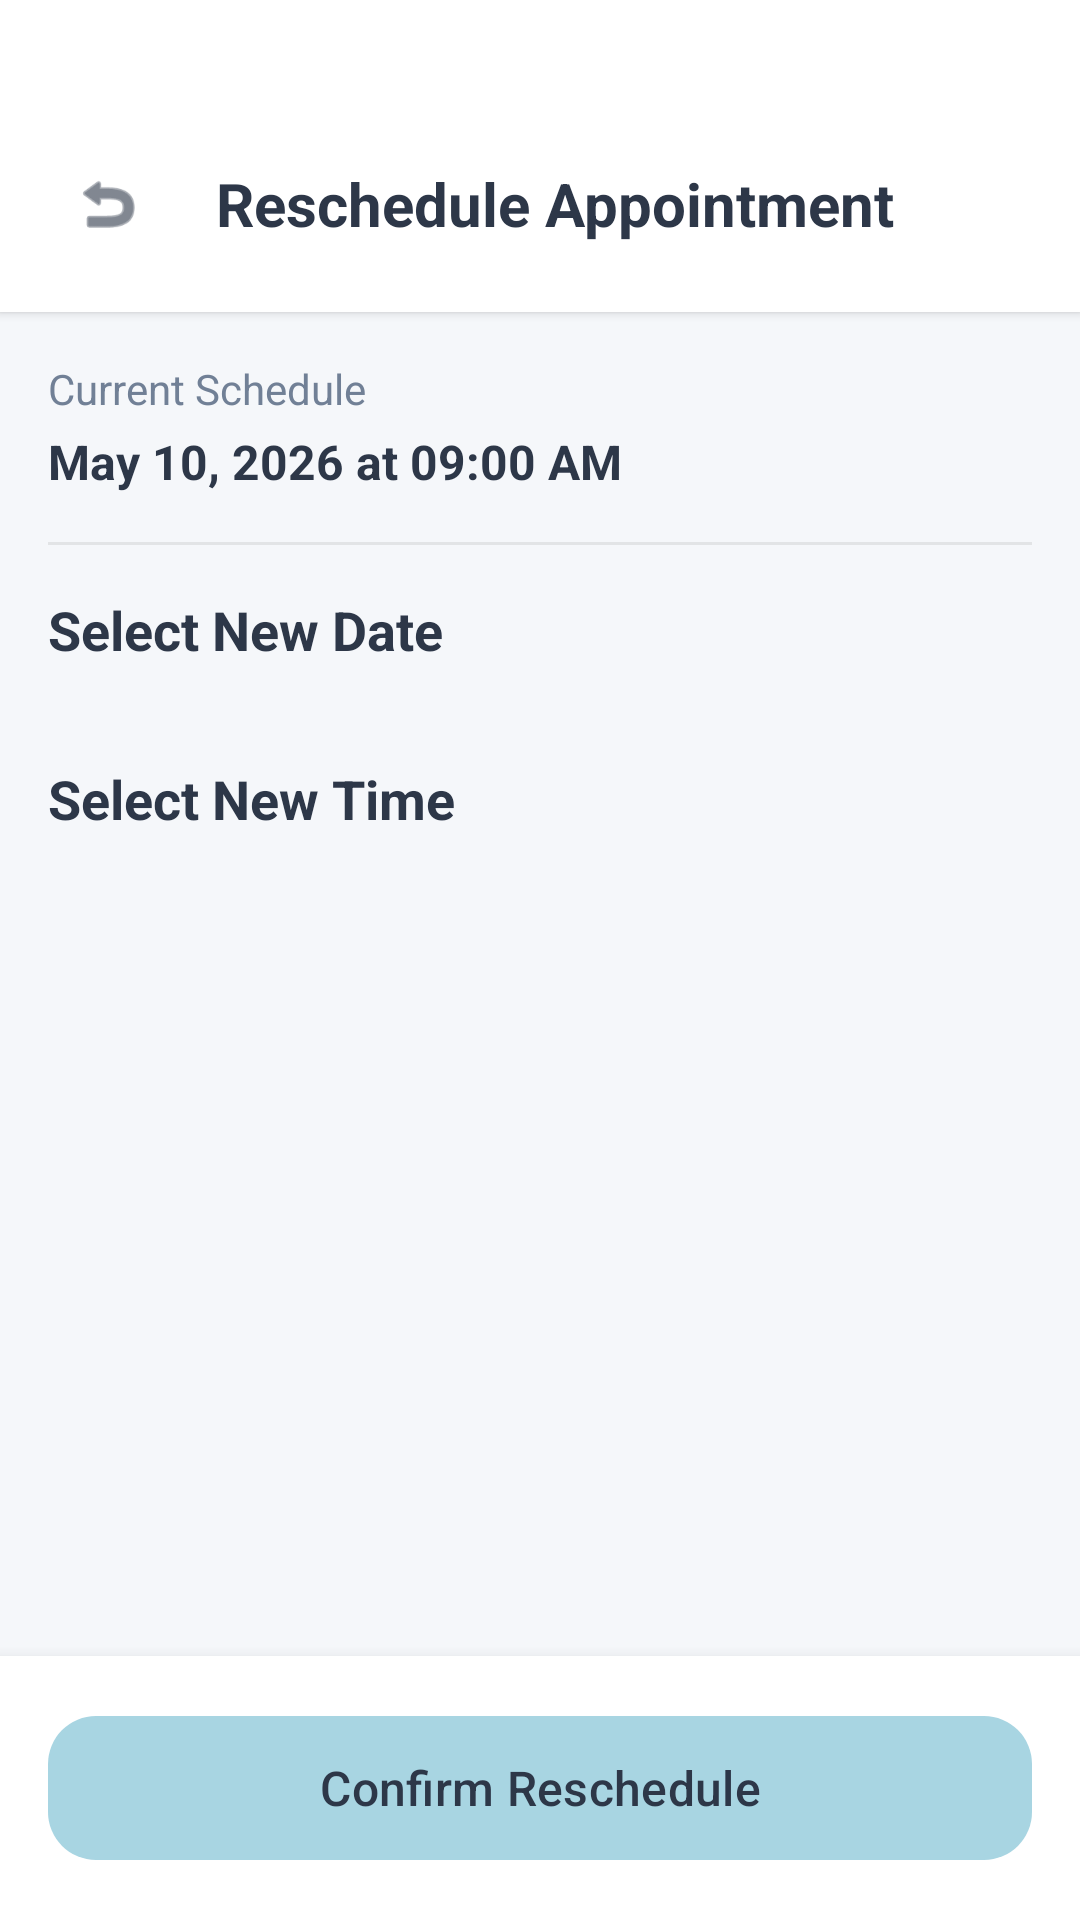

Where icons sit on this 1080 x 1920 app screen, as (x1, y1, x2, y2):
revert: (83, 181, 135, 228)
